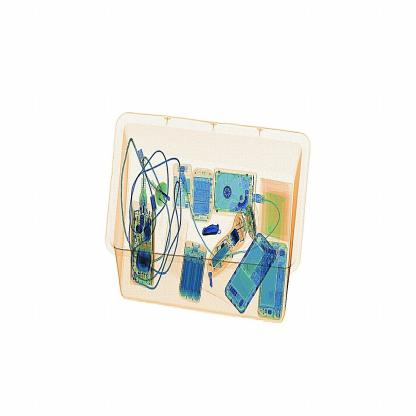knife: (198, 220, 227, 238)
